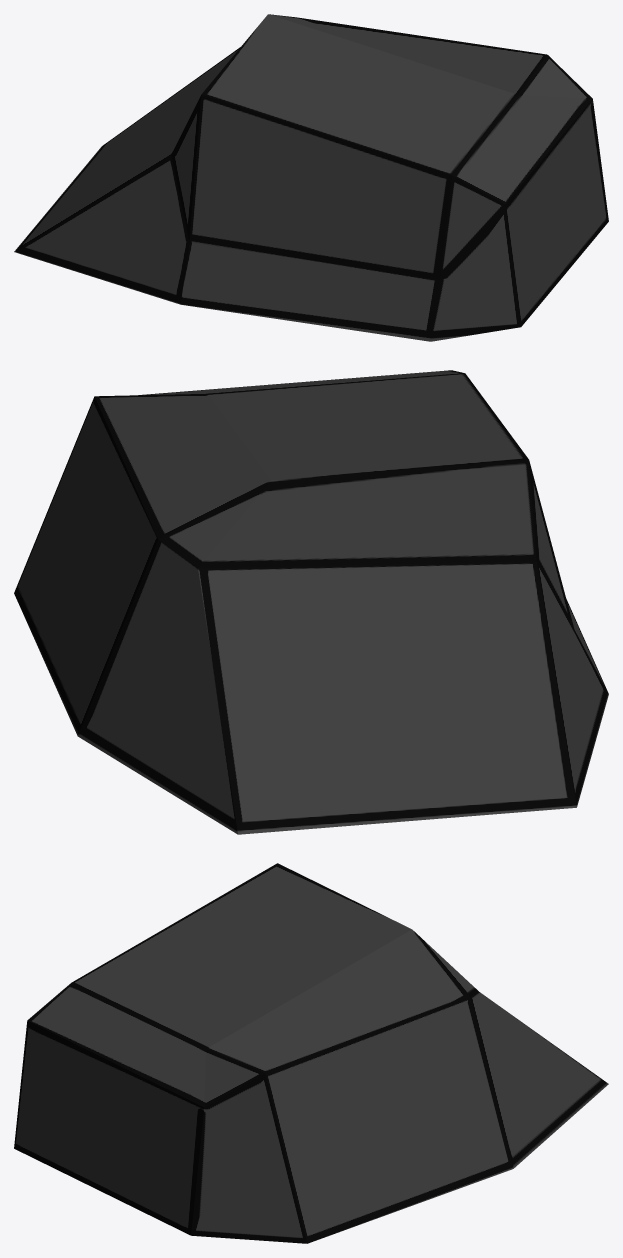
File: caillou01.fbx
The picture shows the model from 3 angles, top to bottom: view 1: azimuth 30°, elevation 25°; view 2: azimuth 150°, elevation 25°; view 3: azimuth 270°, elevation 25°; orthographic projection. The views are drawn at different scales.
Parts seen in each view (by area): view 1: caillou7; view 2: caillou7; view 3: caillou7.
Boxes of the visible parts, x1=… form: caillou7: x1=14, y1=14, x2=608, y2=341; caillou7: x1=14, y1=370, x2=608, y2=834; caillou7: x1=14, y1=863, x2=608, y2=1243.
Bounding box in the file's own units: 42.5 × 15.24 × 43.28.
